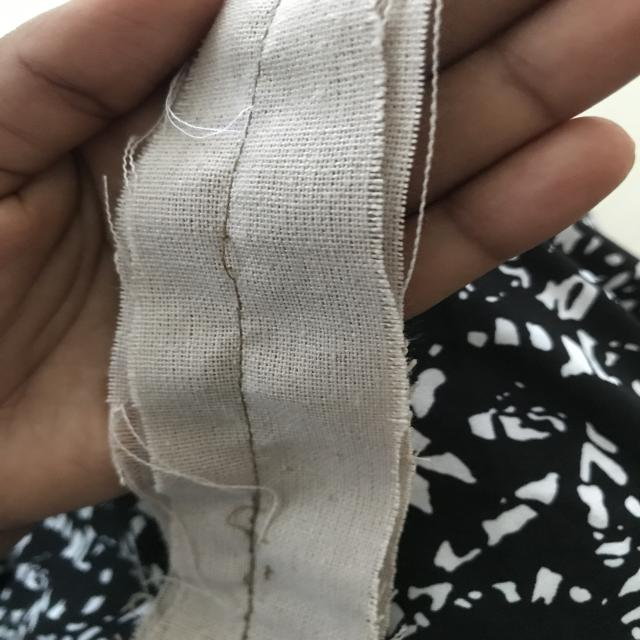skip: (199, 224, 256, 290)
